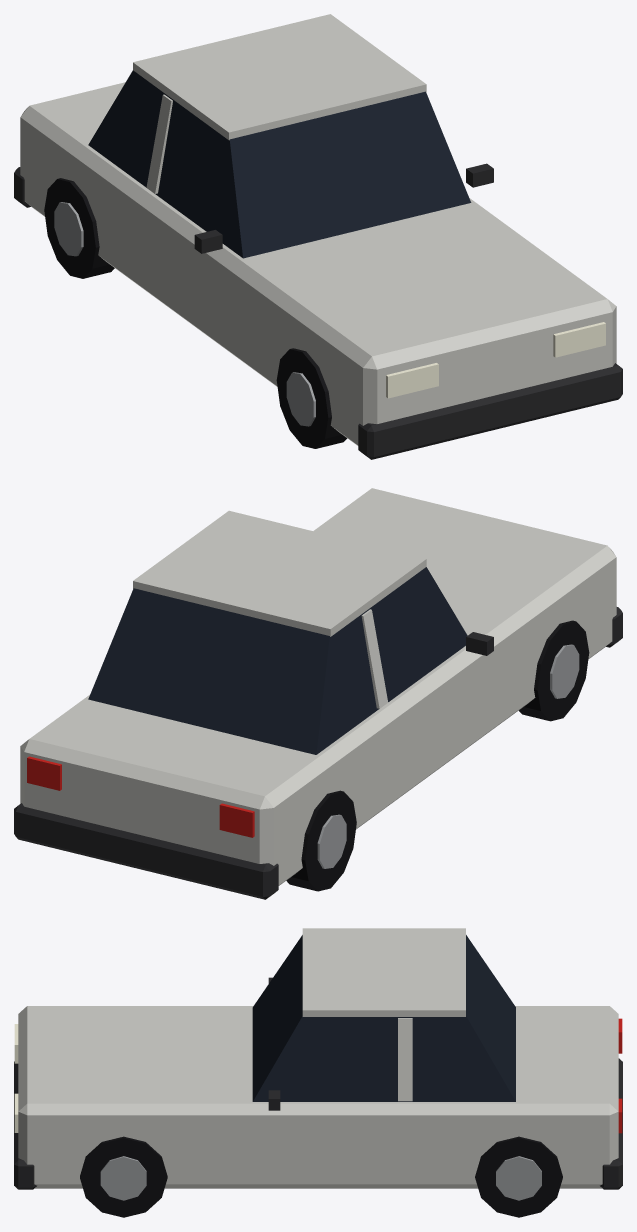
Rendered from voiture_compacte.glb.
The picture shows the model from 3 angles, top to bottom: view 1: azimuth 30°, elevation 25°; view 2: azimuth 150°, elevation 25°; view 3: azimuth 270°, elevation 25°; orthographic projection. The views are drawn at different scales.
Parts seen in each view (by area): view 1: Caisse, Cabine, Toit, PareChocAv, Roue.002, Roue, Phare, Phare.001, Roue_jante, Roue_jante.002, Montant; view 2: Caisse, Cabine, Toit, PareChocAr, Roue.002, Roue, Roue_jante, Roue_jante.002, Montant, Feu, Feu.001; view 3: Caisse, Cabine, Toit, Roue.001, Roue.003, Roue_jante.001, Roue_jante.003, Montant, PareChocAr, PareChocAv.
Part boxes in pixels (x1=…): Caisse: x1=20, y1=82, x2=616, y2=445; Cabine: x1=88, y1=70, x2=471, y2=258; Toit: x1=133, y1=14, x2=426, y2=140; PareChocAv: x1=358, y1=363, x2=622, y2=459; Roue.002: x1=44, y1=178, x2=114, y2=278; Roue: x1=276, y1=348, x2=347, y2=448; Phare: x1=386, y1=363, x2=438, y2=398; Phare.001: x1=553, y1=322, x2=605, y2=357; Roue_jante: x1=286, y1=372, x2=315, y2=426; Roue_jante.002: x1=54, y1=202, x2=83, y2=256; Montant: x1=146, y1=94, x2=172, y2=193; Caisse: x1=20, y1=488, x2=616, y2=885; Cabine: x1=88, y1=567, x2=467, y2=754; Toit: x1=133, y1=510, x2=426, y2=636; PareChocAr: x1=14, y1=803, x2=278, y2=899; Roue.002: x1=286, y1=790, x2=356, y2=891; Roue: x1=519, y1=620, x2=589, y2=721; Roue_jante: x1=550, y1=644, x2=579, y2=698; Roue_jante.002: x1=317, y1=814, x2=346, y2=868; Montant: x1=361, y1=609, x2=388, y2=708; Feu: x1=219, y1=803, x2=254, y2=837; Feu.001: x1=27, y1=756, x2=61, y2=790; Caisse: x1=18, y1=1006, x2=618, y2=1188; Cabine: x1=252, y1=935, x2=515, y2=1101; Toit: x1=302, y1=928, x2=465, y2=1016; Roue.001: x1=80, y1=1136, x2=167, y2=1217; Roue.003: x1=475, y1=1136, x2=562, y2=1217; Roue_jante.001: x1=100, y1=1156, x2=146, y2=1200; Roue_jante.003: x1=496, y1=1156, x2=541, y2=1200; Montant: x1=398, y1=1018, x2=412, y2=1101; PareChocAr: x1=600, y1=1058, x2=622, y2=1189; PareChocAv: x1=14, y1=1061, x2=36, y2=1189.
Bounding box in the file's own units: 1.96 × 1.47 × 4.16.
